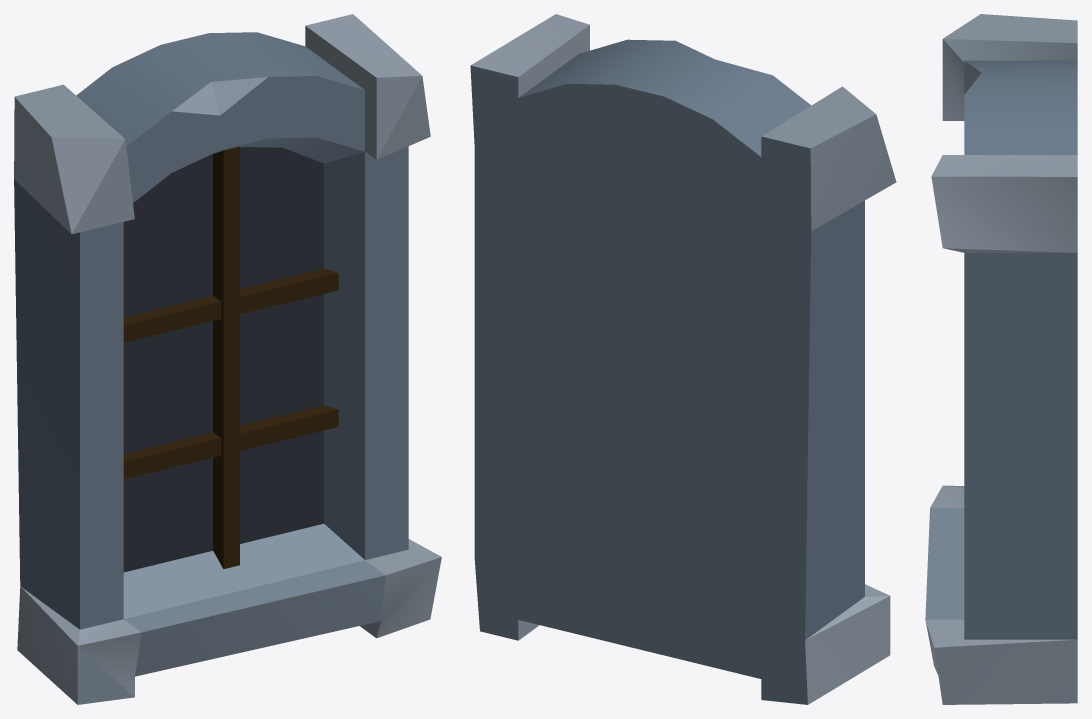
File: castle-window-ver2.glb
3 views of the same model, side by side, from view 1: azimuth 30°, elevation 25°; view 2: azimuth 150°, elevation 25°; view 3: azimuth 270°, elevation 25° (orthographic). The views are drawn at different scales.
Visible parts, largest first — view 1: Castle-window-ver2_Texture-base_0; view 2: Castle-window-ver2_Texture-base_0; view 3: Castle-window-ver2_Texture-base_0.
Boxes of the visible parts, <box> form: Castle-window-ver2_Texture-base_0: <box>14,14,441,704</box>; Castle-window-ver2_Texture-base_0: <box>470,14,896,704</box>; Castle-window-ver2_Texture-base_0: <box>925,14,1077,704</box>.
Bounding box in the file's own units: 0.8235 × 1.24 × 0.3134.
Materials: 1 (1 with a texture image).
